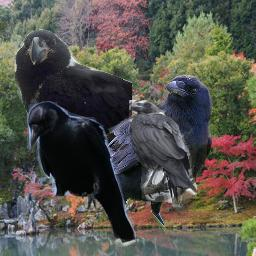Crow: (47, 74, 212, 241), (26, 101, 136, 249), (13, 29, 132, 144), (129, 100, 197, 207)
